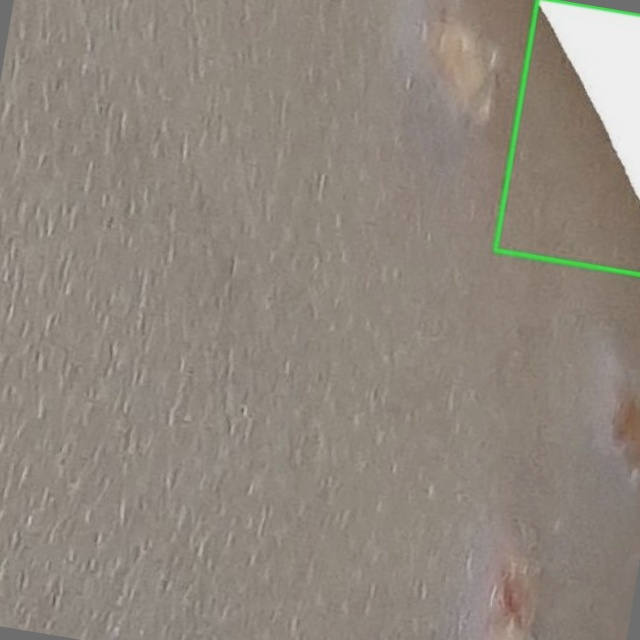Eczema: (495, 0, 639, 274)
